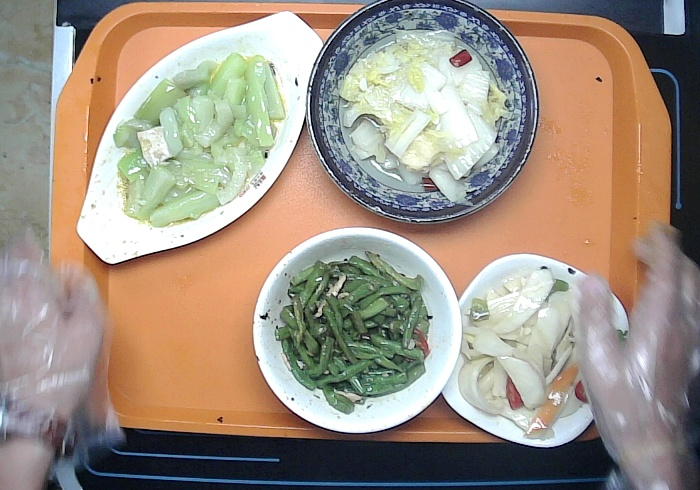ZNLD-Qing_Hua_Wan: (305, 8, 540, 225)
ZNLD-Si_Fang_Wan: (440, 249, 628, 446)
ZNLD-Tang_Wan: (250, 224, 463, 432)
ZNLD-Yu_Pan: (78, 12, 325, 268)
